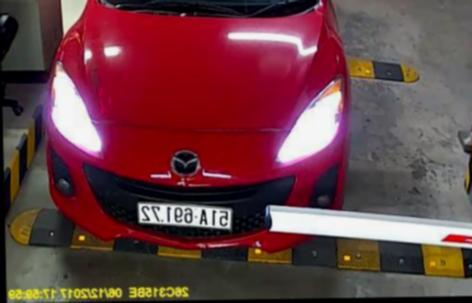License_Plate: (134, 195, 238, 231)
